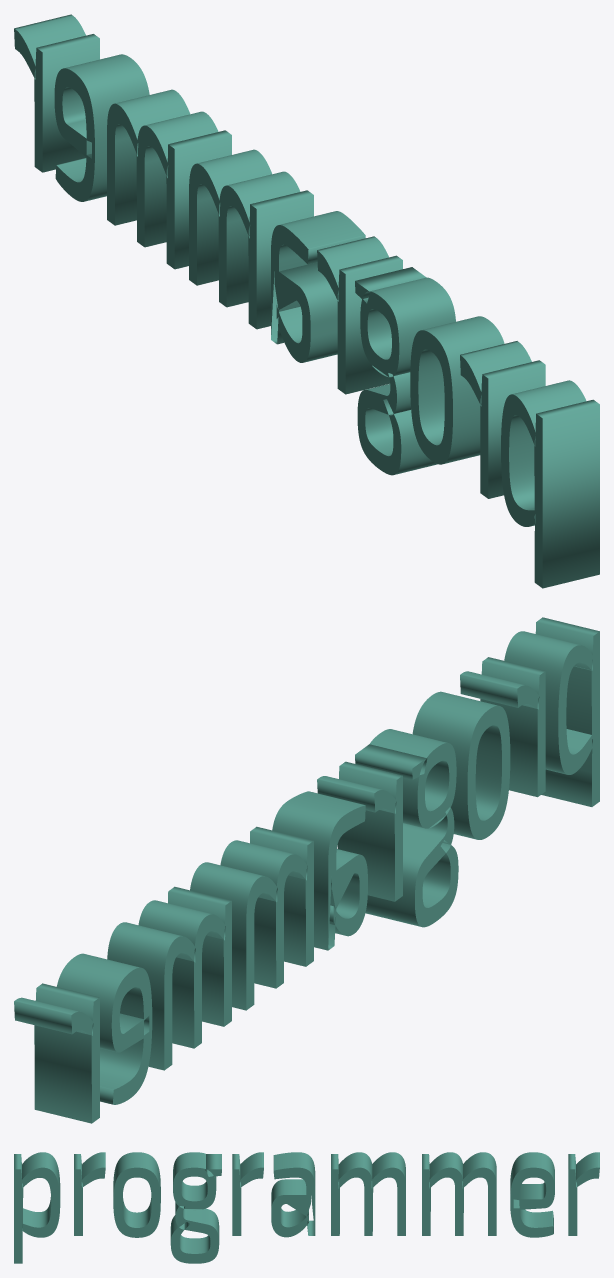
The model's file is subName2.obj.
The picture shows the model from 3 angles, top to bottom: view 1: azimuth 30°, elevation 25°; view 2: azimuth 150°, elevation 25°; view 3: azimuth 270°, elevation 25°; orthographic projection. The views are drawn at different scales.
Visible parts, largest first — view 1: name.001_Text.001; view 2: name.001_Text.001; view 3: name.001_Text.001.
Boxes of the visible parts, x1=… form: name.001_Text.001: x1=14, y1=14, x2=599, y2=588; name.001_Text.001: x1=14, y1=617, x2=599, y2=1123; name.001_Text.001: x1=14, y1=1152, x2=599, y2=1263.
Bounding box in the file's own units: 0.12 × 0.347 × 1.92.
